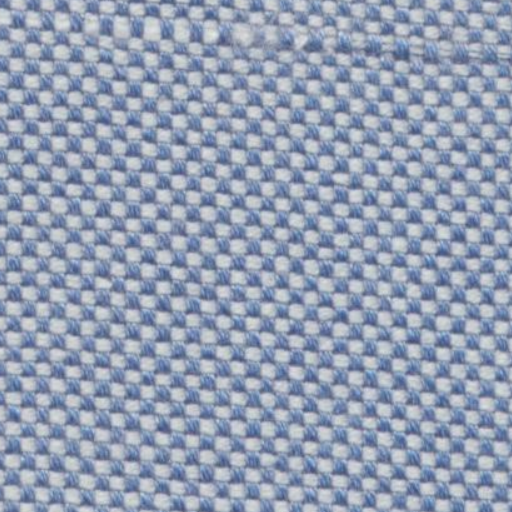DaiSha: (16, 2, 498, 74)
